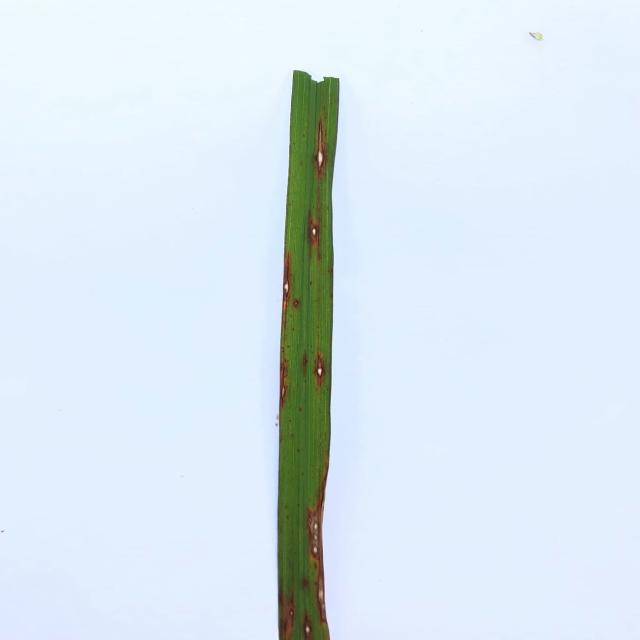leaf blast: (312, 116, 328, 180), (307, 507, 320, 558), (282, 258, 291, 313), (279, 357, 288, 407), (314, 349, 326, 386), (308, 216, 319, 249), (317, 574, 325, 617), (303, 612, 314, 640), (288, 604, 296, 623), (292, 295, 301, 311)
